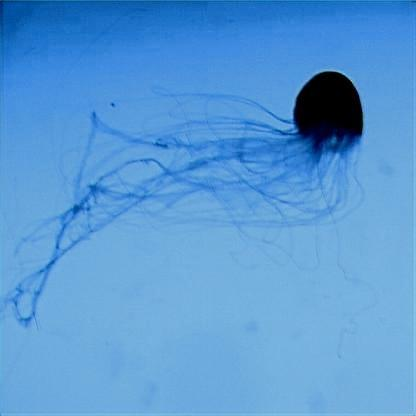GoldThorn: (90, 72, 364, 235)
